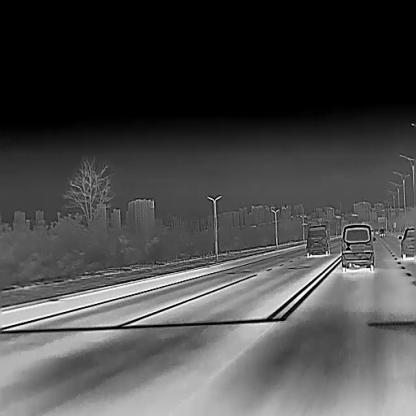car: (338, 222, 376, 270), (305, 223, 331, 256), (396, 224, 416, 259), (379, 226, 385, 236)
